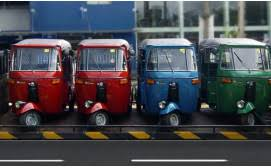tuk tuk: (200, 39, 271, 130), (136, 37, 205, 130), (6, 37, 74, 130), (75, 37, 134, 129)
